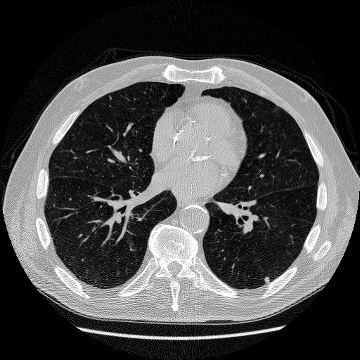nodule: (263, 277, 269, 283)
